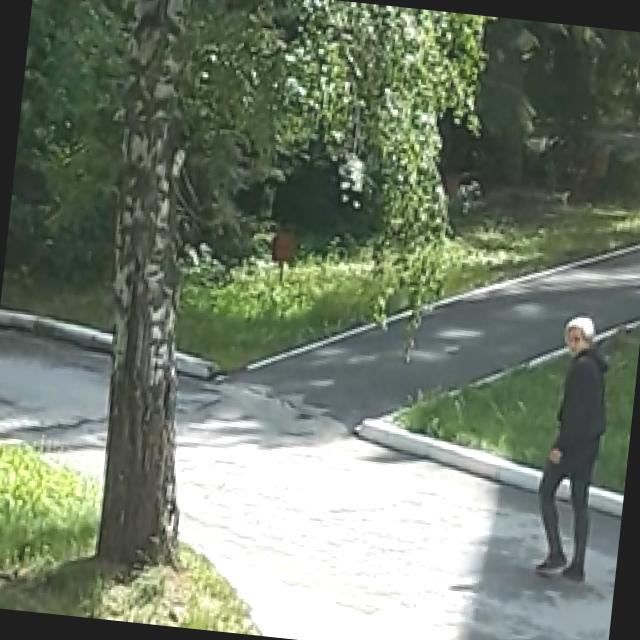person: (529, 318, 616, 584)
